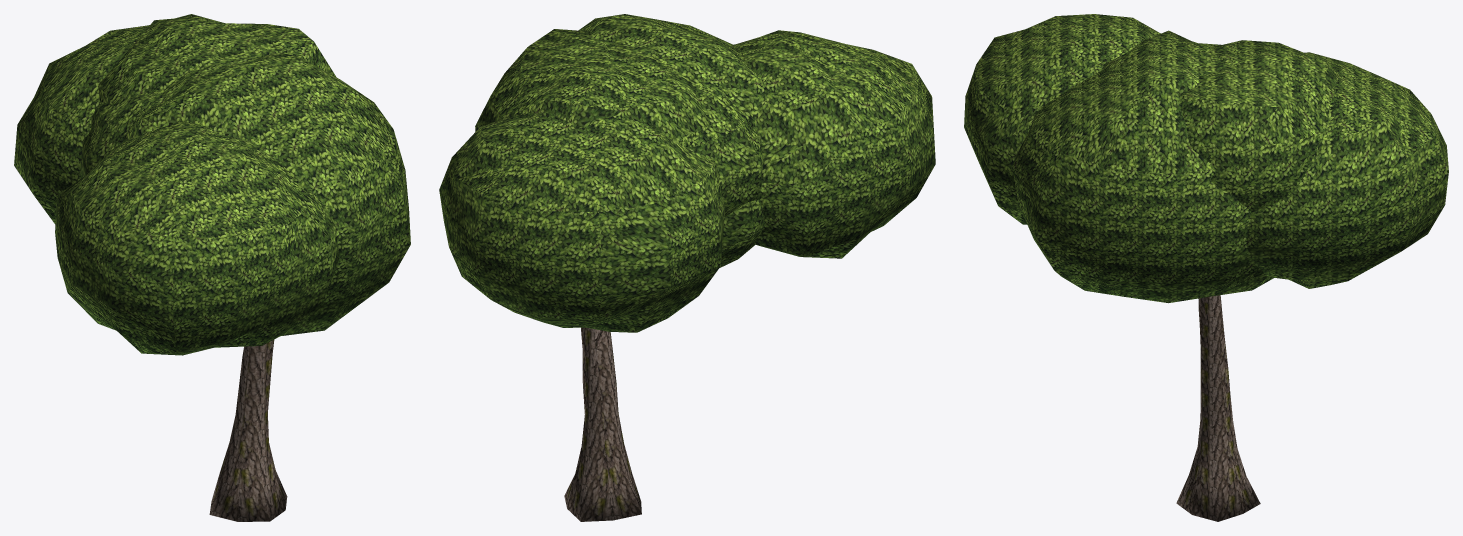
File: tree_2.glb
3 renders of one model, left to right at view 1: azimuth 30°, elevation 25°; view 2: azimuth 150°, elevation 25°; view 3: azimuth 270°, elevation 25°, orthographic. The views are drawn at different scales.
Visible parts, largest first — view 1: Tree; view 2: Tree; view 3: Tree.
Part boxes in pixels (x1,y1,x2,y2): Tree: (14,14,410,521); Tree: (439,14,935,521); Tree: (964,14,1448,521).
Size of the model in its own units: 6.35 by 8.14 by 8.13.
2 materials, 2 textured.
